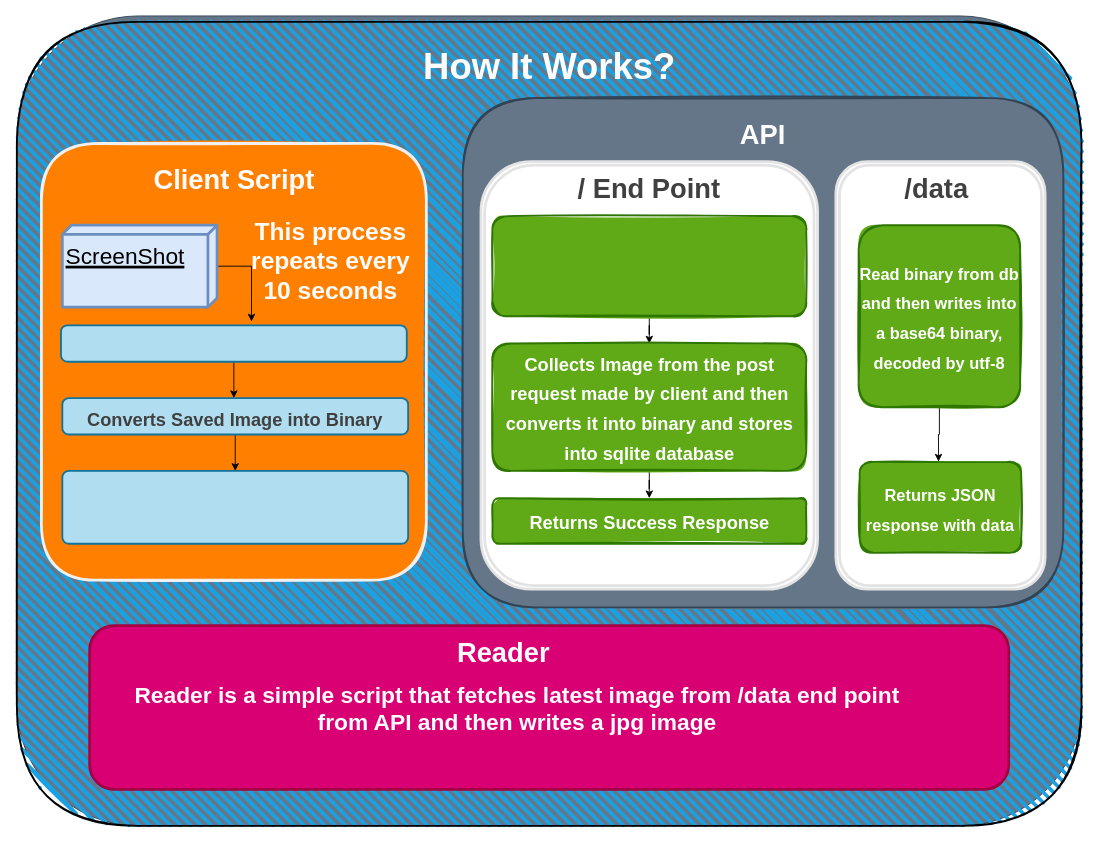
Some shapes in this 1097 by 843 pixel diagram are drawn without their labels. Here are the shapes that lost their labels. From the top down, the centre of each, then its label:
[649,266]: Checks If there is any data from the previous hour if yes then clears the table
[233,343]: Saves Image In Low Resolution
[235,507]: Makes Post Request To the Api with Binary
